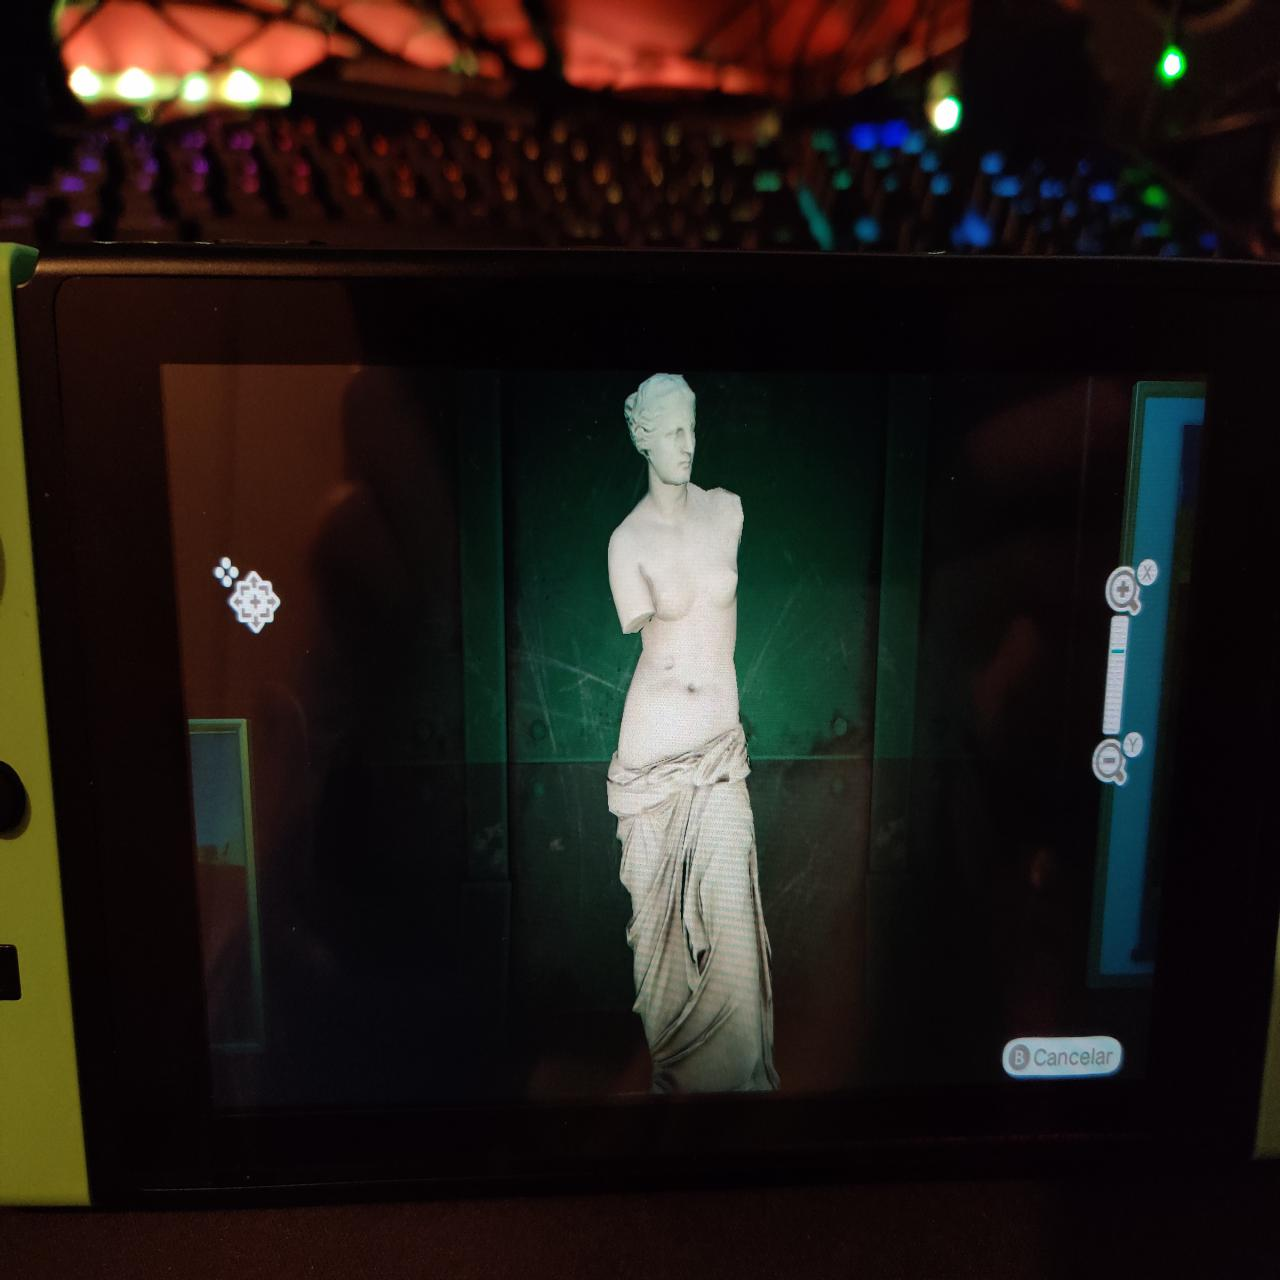Milo: (605, 369, 788, 1096)
